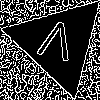V: (33, 18, 78, 71)
